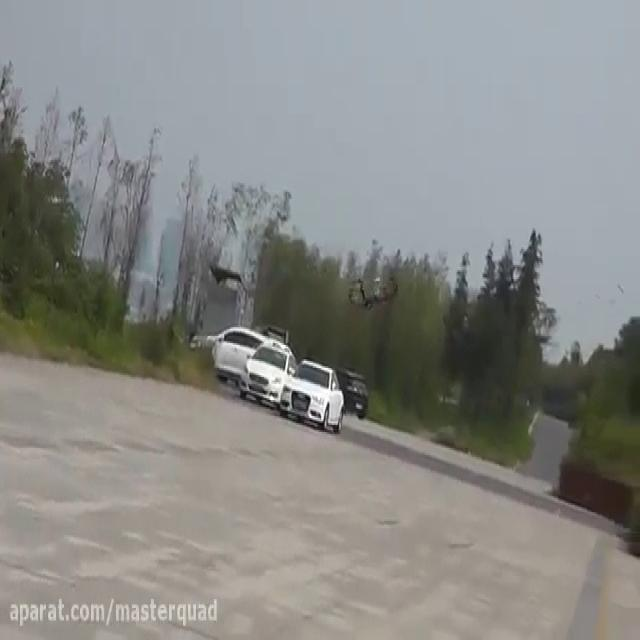drone: (345, 267, 402, 309)
